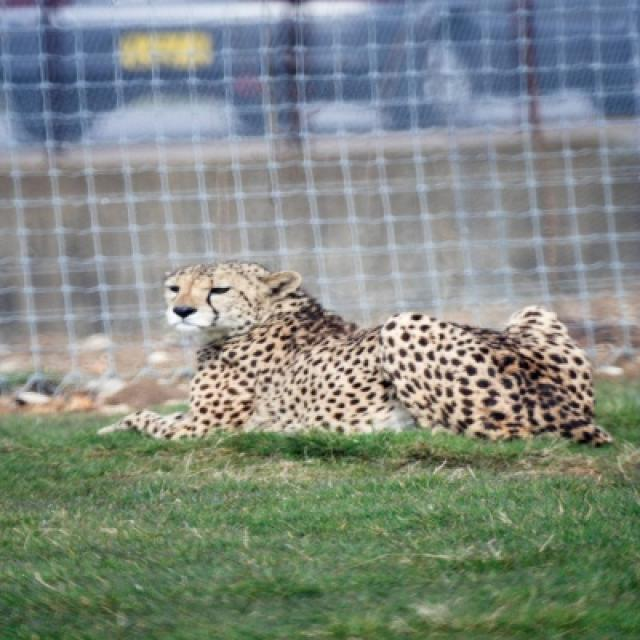Cheetah: (104, 262, 614, 448)
